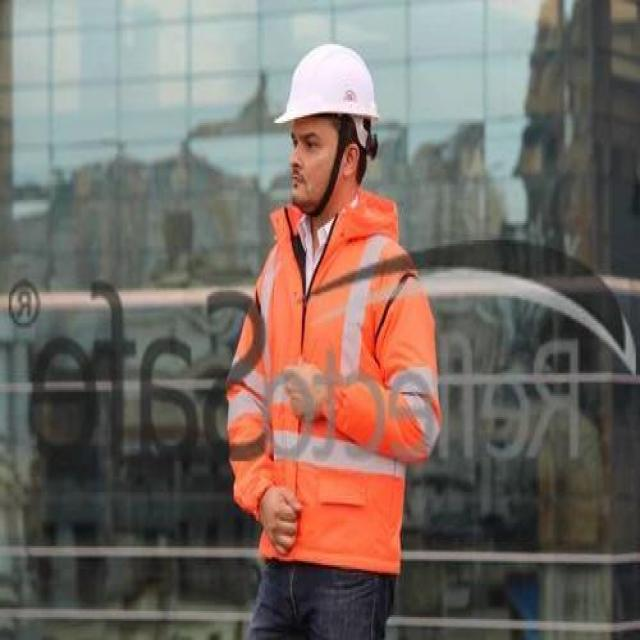Reflective-Jacket: (220, 196, 435, 579)
Safety-Helmet: (272, 36, 386, 140)
